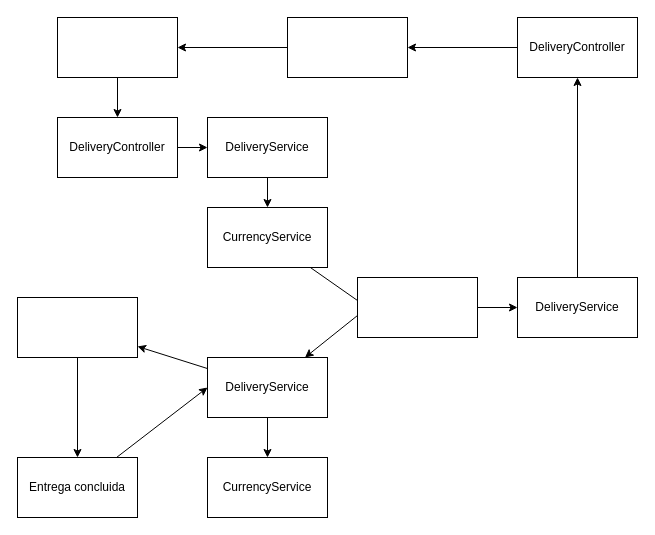
Image size: 655x535. Some labels were removed from this diagram. The centre of each missing label's shape, as x and y in pixels:
"Falha na entrega" belongs at (347,47).
"Inicia a entrega" belongs at (77,327).
"Jogador" belongs at (117,47).
"Se não tiver" belongs at (417,307).
